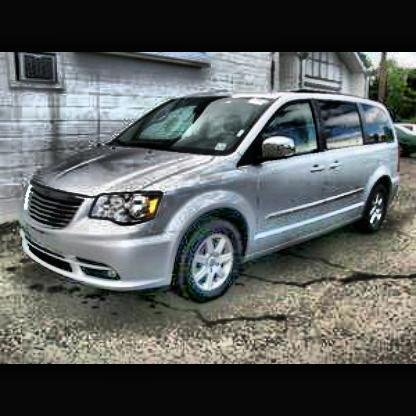Chrysler Town and Country Minivan 2012: (25, 96, 402, 299)
